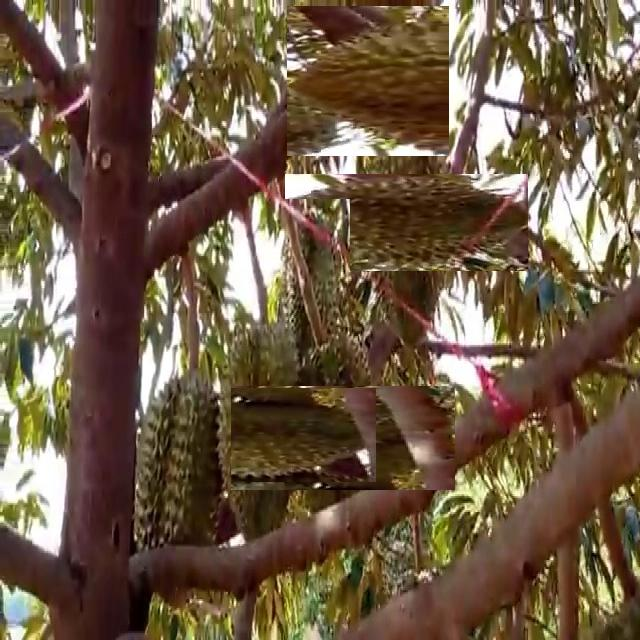durian: (321, 138, 492, 308), (259, 355, 425, 521), (177, 352, 341, 518), (289, 3, 446, 159), (129, 364, 231, 601), (281, 199, 350, 373)
